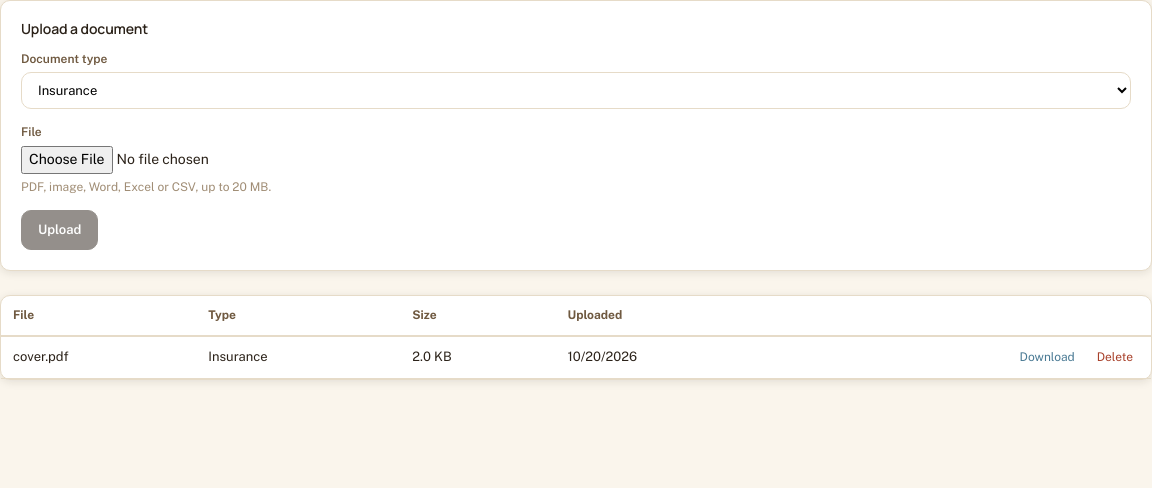
it: PortalDocuments › explains why a document in use can't be deleted
Step 1. Click the button with aria-label "Delete cover.pdf" → (1115, 357), box [1091,347,1139,368]
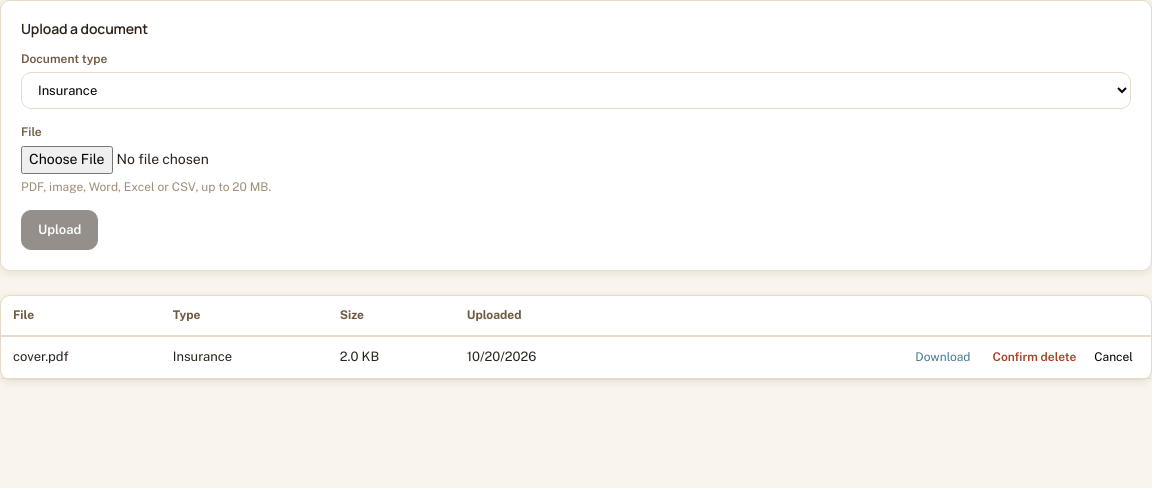
Step 2. Click the button "Confirm delete" → (1034, 357), box [986,347,1082,368]
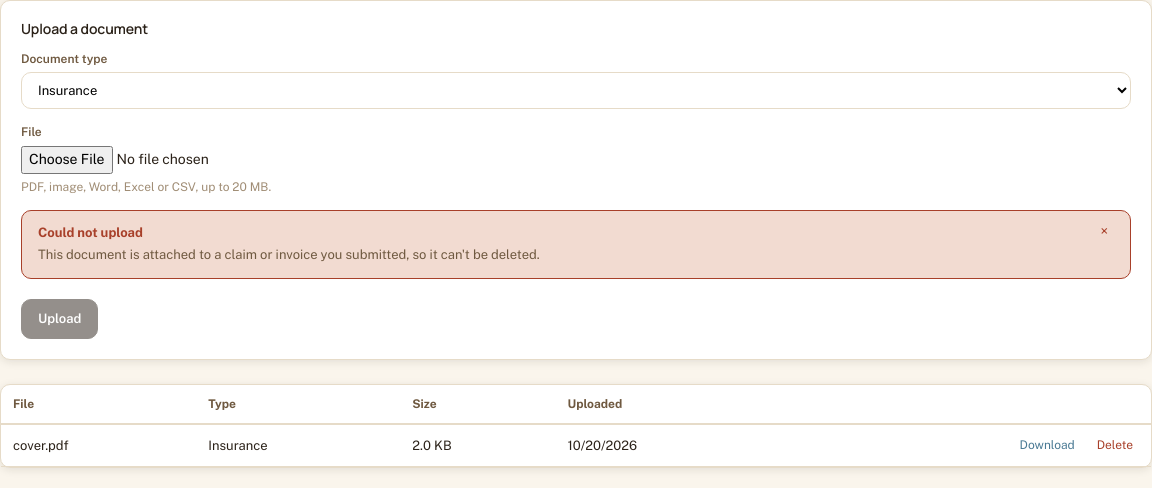
Expected: the text "cover.pdf" is shown, [1,424,196,466]
Expected: the text "attached to a claim or invoice" is shown, [38,247,540,262]
